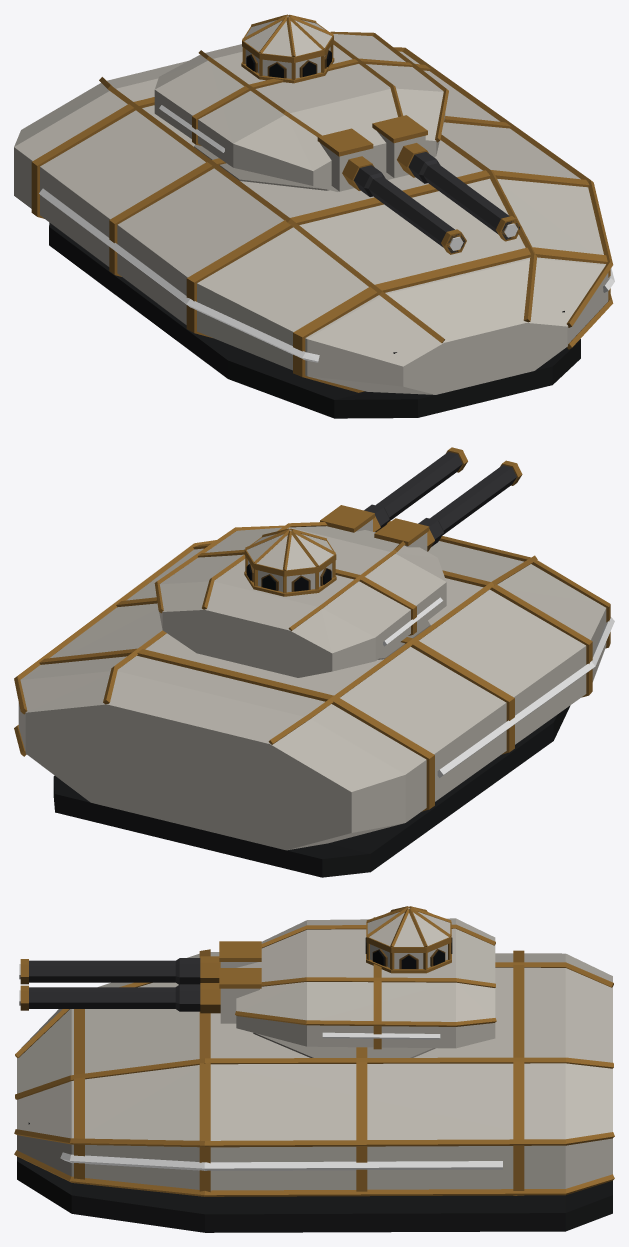
Rendered from tank_t2.glb.
The picture shows the model from 3 angles, top to bottom: view 1: azimuth 30°, elevation 25°; view 2: azimuth 150°, elevation 25°; view 3: azimuth 270°, elevation 25°; orthographic projection.
Visible parts, largest first — view 1: body, top; view 2: body, top; view 3: body, top.
Part boxes in pixels (bbox=[...]): body: bbox=[14, 47, 614, 418]; top: bbox=[154, 14, 521, 254]; body: bbox=[14, 521, 614, 877]; top: bbox=[154, 447, 522, 677]; body: bbox=[14, 949, 614, 1232]; top: bbox=[19, 906, 496, 1049].
Bounding box in the file's own units: 5.98 × 3.52 × 7.66.
